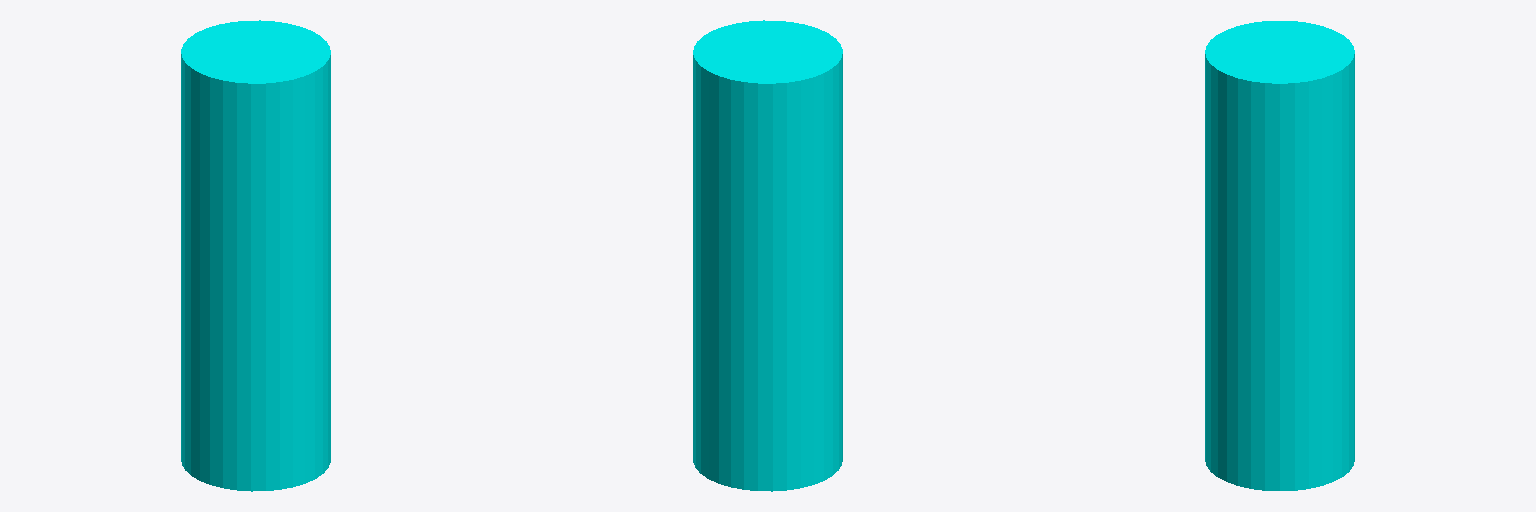
URDF robot description (cylindrical_0dof_robot):
<?xml version="1.0"?>
<robot name="cylindrical_0dof_robot">

  <link name="link">
    <inertial>
      <mass value="1"/>
      <inertia ixx="0.0325" ixy="0.0" ixz="0.0" iyy="0.0325" iyz="0.0" izz="0.005"/>
      <origin xyz="0 0 0.3"/>
    </inertial>
    <visual>
      <origin xyz="0 0 0.3" rpy="0 0 0"/>
      <geometry>
        <cylinder length="0.6" radius="0.1"/>
      </geometry>
     <material name="Cyan">
       <color rgba="0 1.0 1.0 1.0"/>
     </material>
    </visual>
    <collision>
      <geometry>
        <cylinder length="0.6" radius="0.1"/>
      </geometry>
      <origin xyz="0 0 0.3"/>
    </collision>
  </link>
</robot>

--- What the picture shows (computed from the rendered views, not written in the file) ---
Views: 3 orthographic renders of the robot side by side, from view 1: azimuth 30°, elevation 25°; view 2: azimuth 150°, elevation 25°; view 3: azimuth 270°, elevation 25°.
Robot: cylindrical_0dof_robot — 1 links, 0 joints (none); root link link; default pose: all joints at 0.
Links seen in each view (by area): view 1: link; view 2: link; view 3: link.
Boxes of the visible links, x1,y1,x2,y2 form: link: (181,20,330,491); link: (693,20,842,491); link: (1205,21,1354,490).
Size in the robot's own frame: 0.2 by 0.2 by 0.6 metres.
Geometry: primitives only (box / cylinder / sphere), no mesh files.